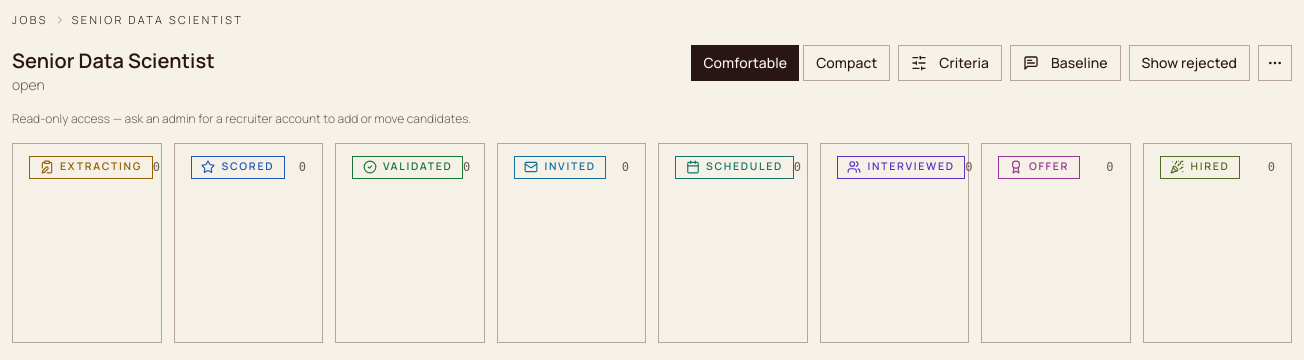
JobDetail write controls — job actions menu › hides Close job from a viewer, offering View details instead
Expected: the heading "Senior Data Scientist" is shown, [12, 46, 215, 74]
Click the button named "manage job". click: coordinates (1275, 62)
box: [1258, 44, 1292, 80]
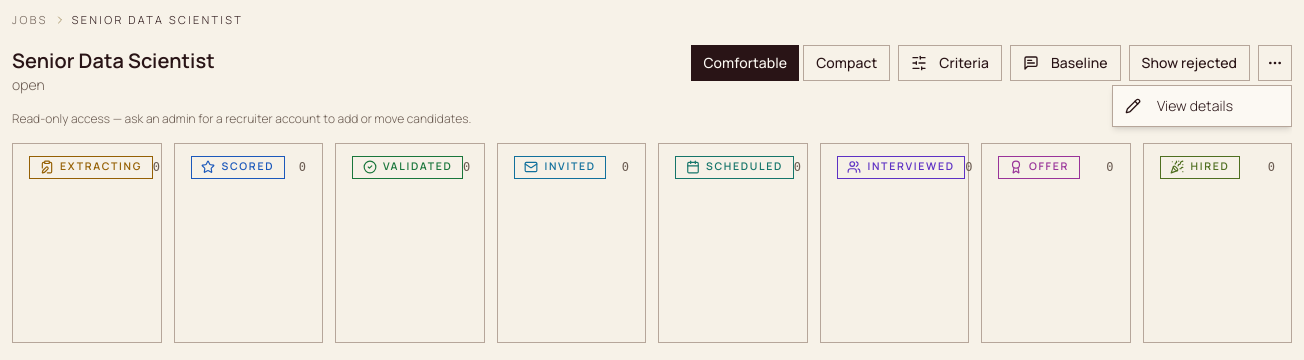
Now the menu item "View details" is shown, box [1125, 96, 1233, 115]
